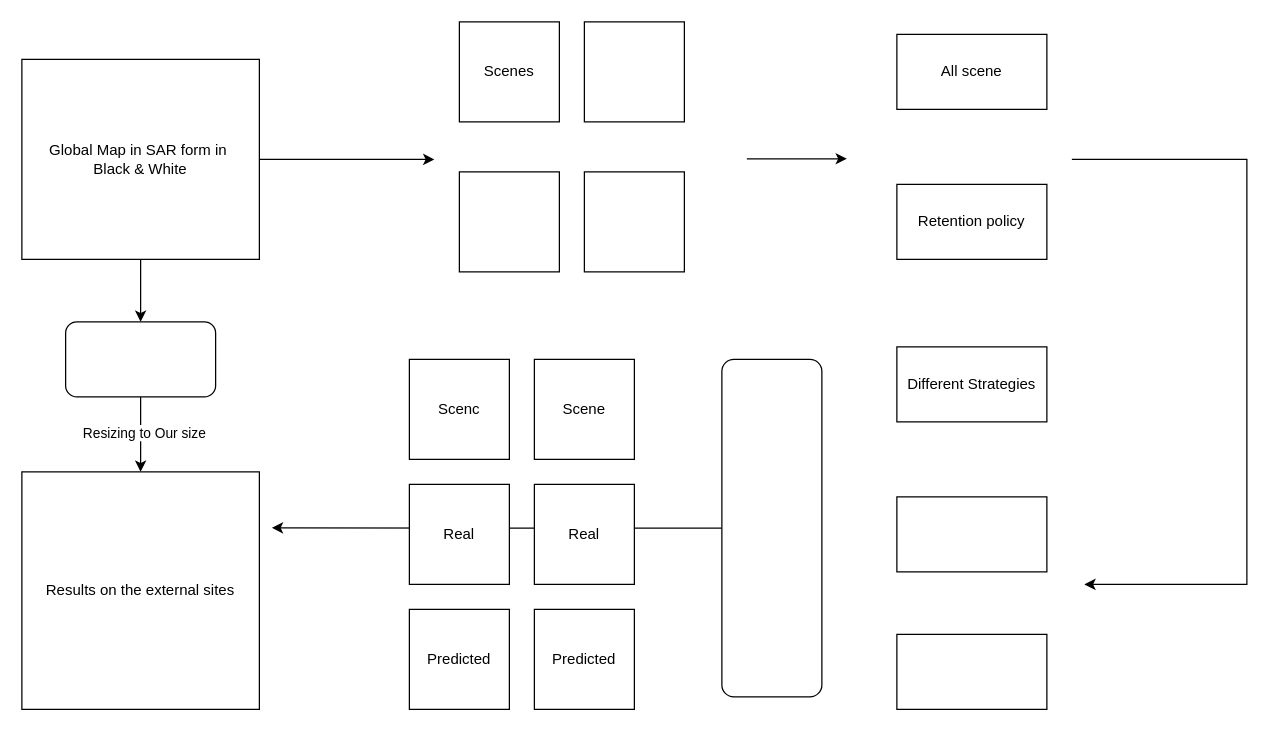
This 1279x731 diagram has some shape labels left out. The shapes that lost their labels are listed below. From the top down, each one's box as (x1, y1, x2, y2) in pixels, then its label:
(64, 321, 216, 397): Global Evaluation dataset
(721, 358, 822, 697): Selected approaches & three seeds
